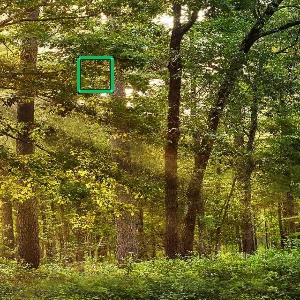square: (75, 53, 116, 94)
